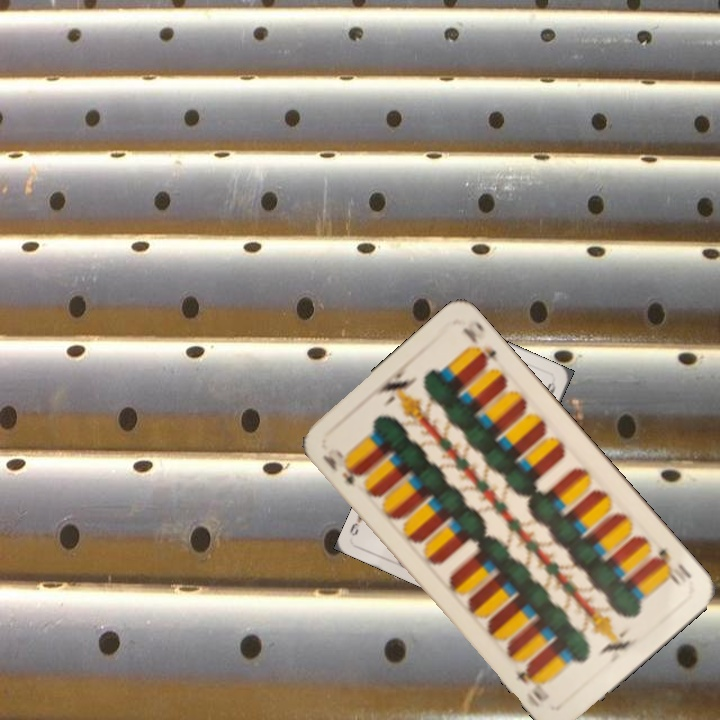E10: (318, 444, 365, 488), (649, 544, 694, 589)
